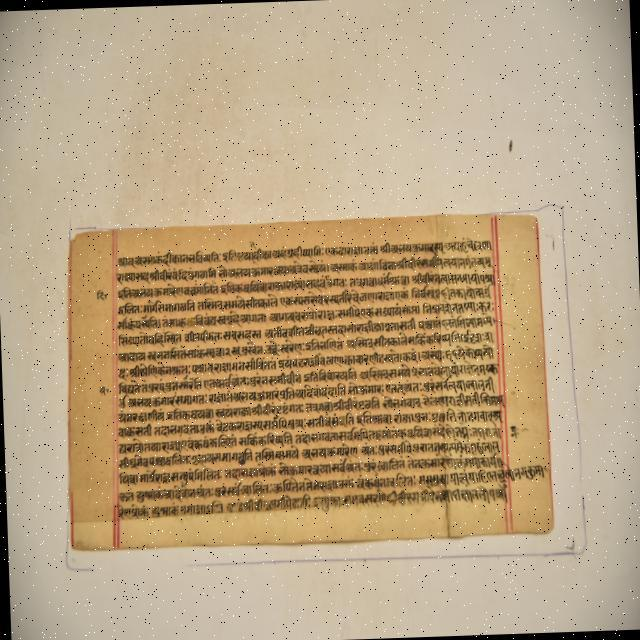text_paragraph: (70, 216, 553, 547)
